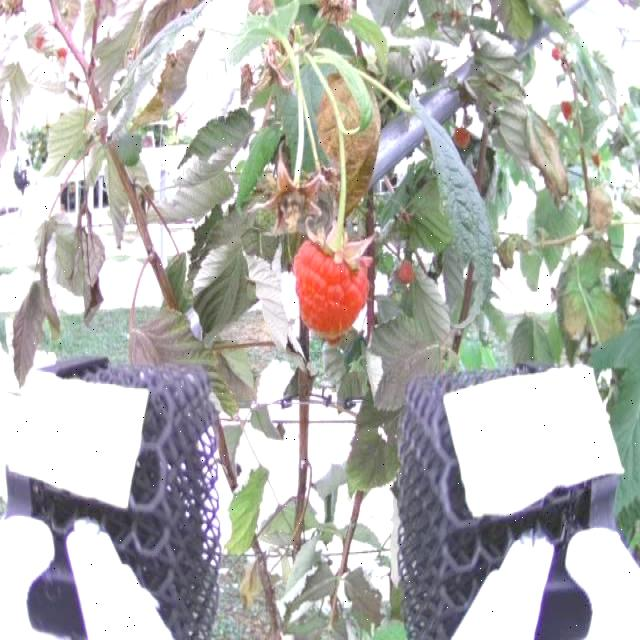Riped berries: (288, 223, 378, 342)
